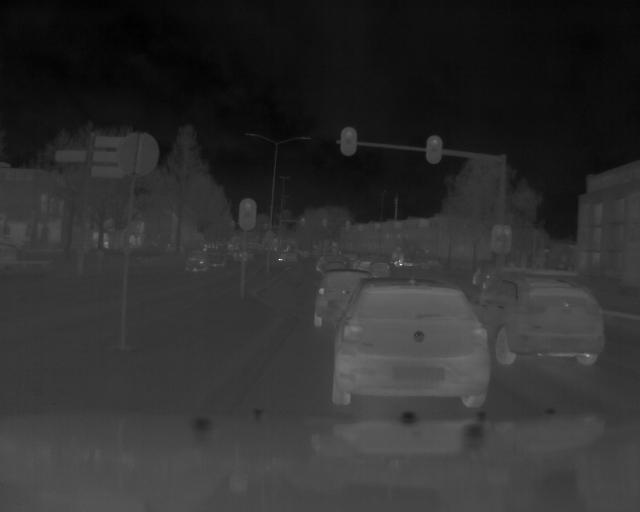car: (329, 284, 488, 407), (494, 275, 606, 375), (187, 250, 209, 275)
